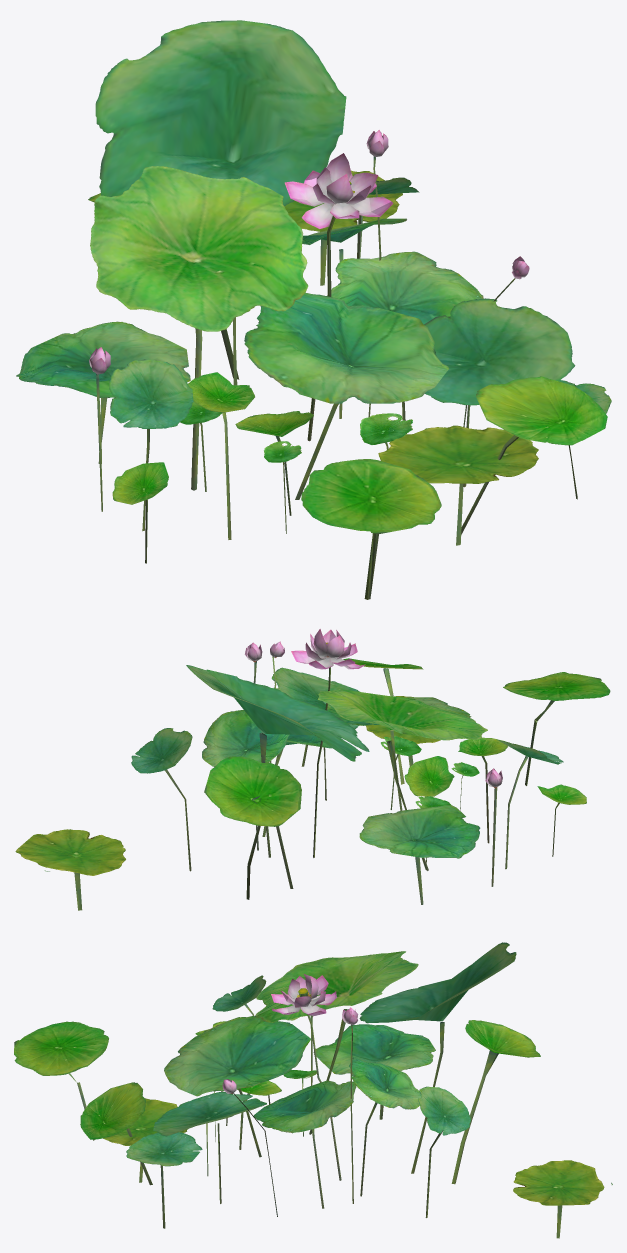
File: xzc_hehua01_w.FBX
3 renders of one model, top to bottom at view 1: azimuth 30°, elevation 25°; view 2: azimuth 150°, elevation 25°; view 3: azimuth 270°, elevation 25°, orthographic. The views are drawn at different scales.
Visible parts, largest first — view 1: xzc_hehua01_w; view 2: xzc_hehua01_w; view 3: xzc_hehua01_w.
Part boxes in pixels (left/top/right/bottom): xzc_hehua01_w: left=16, top=20, right=611, bottom=599; xzc_hehua01_w: left=15, top=629, right=610, bottom=910; xzc_hehua01_w: left=14, top=942, right=612, bottom=1238.
Size of the model in its own units: 243672 by 143664 by 342111.
